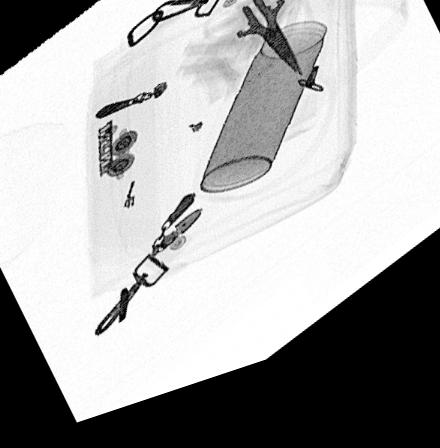Scissors: (202, 0, 307, 99)
